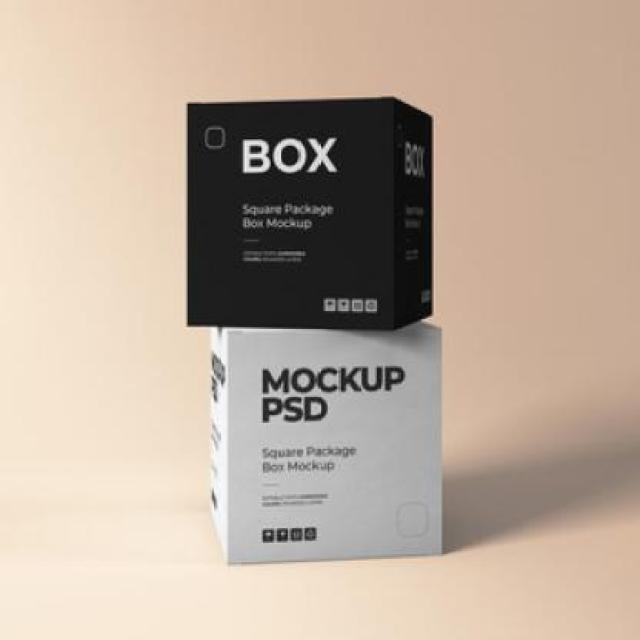box: (201, 300, 465, 575), (177, 91, 448, 348)
